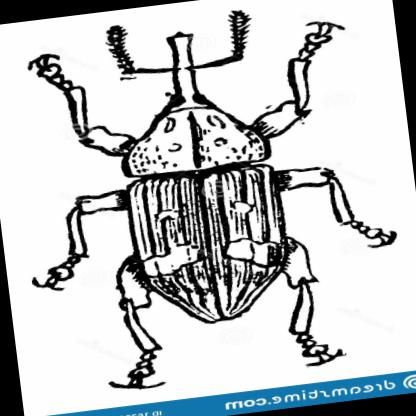ash weevil: (29, 18, 359, 388)
